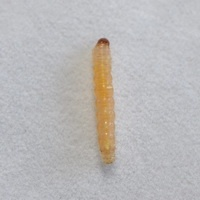insect: (93, 38, 114, 163)
